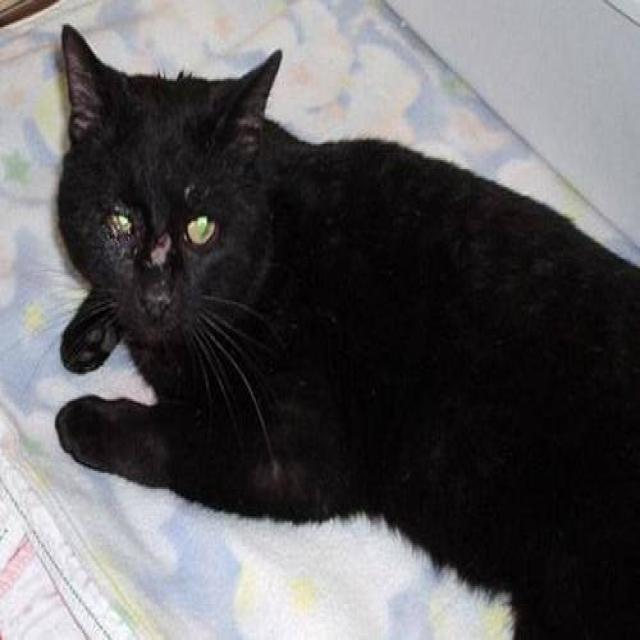cat: (52, 22, 638, 638)
